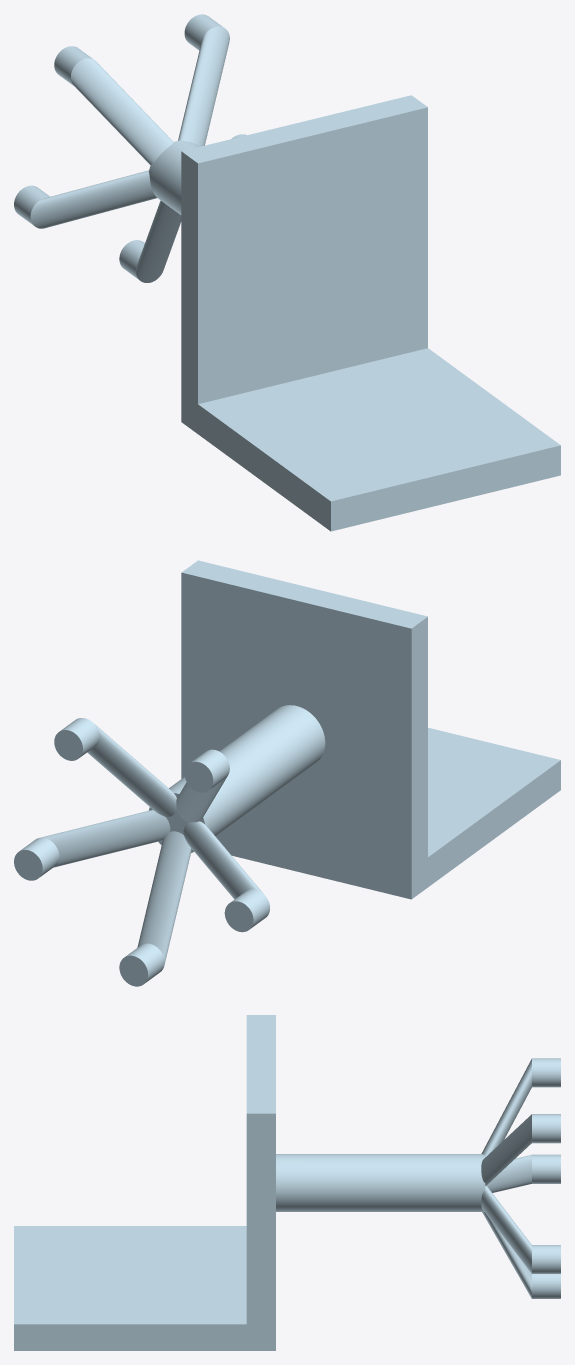
File: Rollstuhl.gltf
The picture shows the model from 3 angles, top to bottom: view 1: azimuth 30°, elevation 25°; view 2: azimuth 150°, elevation 25°; view 3: azimuth 270°, elevation 25°; orthographic projection. The views are drawn at different scales.
Visible parts, largest first — view 1: Part 1; view 2: Part 1; view 3: Part 1.
Boxes of the visible parts, x1,y1,x2,y2 form: Part 1: [14, 14, 560, 531]; Part 1: [14, 560, 560, 986]; Part 1: [14, 1015, 560, 1350].
Bounding box in the file's own units: 0.0416 × 0.045 × 0.094.
